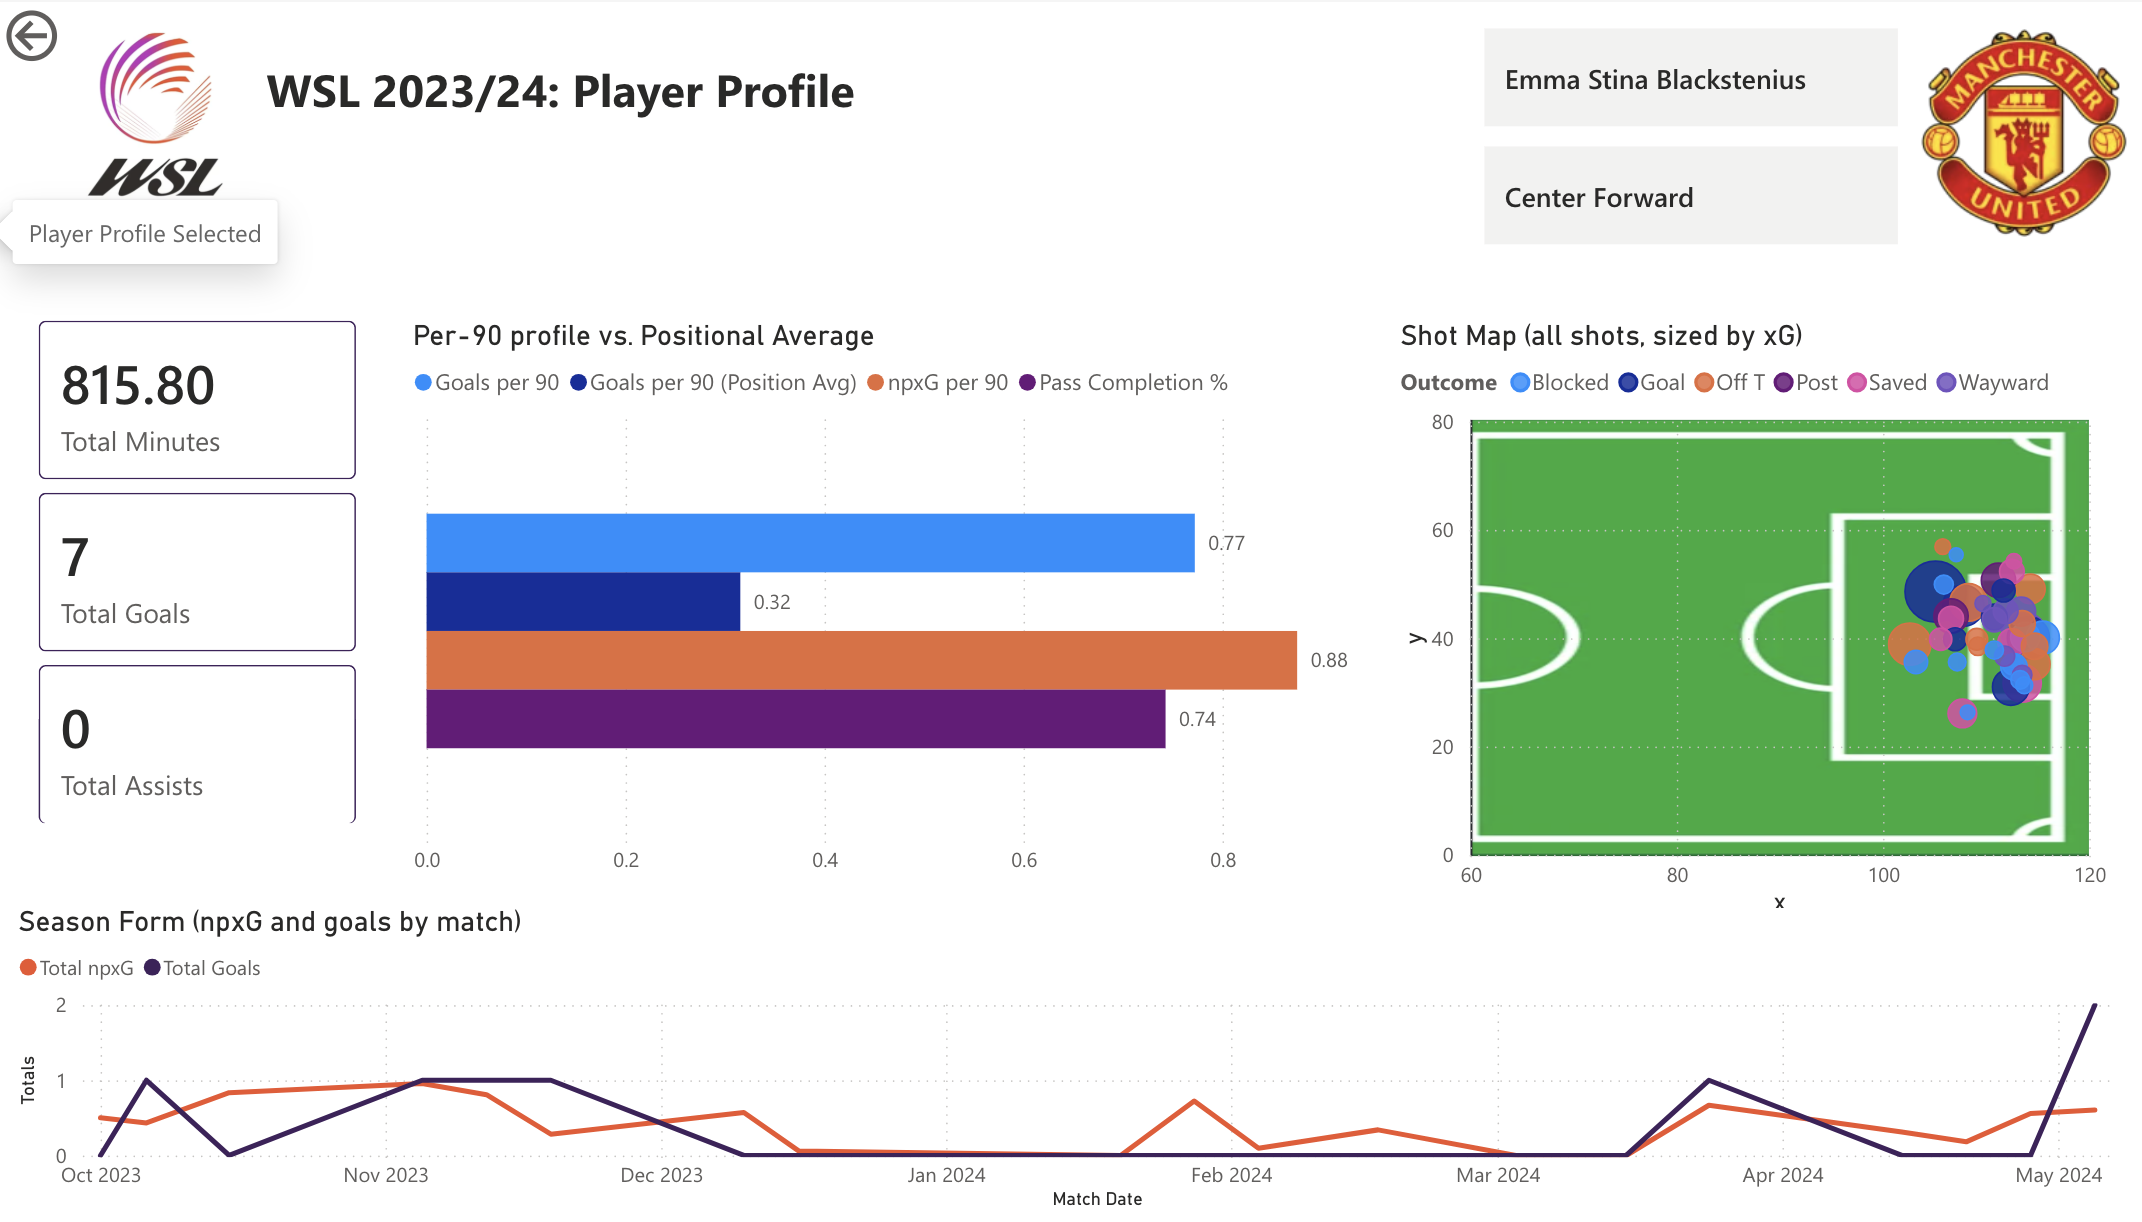

Layout of this report page (visuals, bound fields, positions):
{"tool":"powerbi","page":{"name":"Player Profile","canvas":[1280,720],"ordinal":2},"visuals":[{"type":"image","box":[52,8.8,83.5,125.2],"z":0},{"type":"textbox","box":[153.5,28.8,724.1,60.1],"z":1000},{"type":"actionButton","box":[0,0,100,40],"z":2000},{"type":"cardVisual","fields":{"Rows":["dim_player.player"]},"box":[876.2,11,255.4,258.4],"z":3000},{"type":"cardVisual","fields":{"Rows":["dim_player.position"]},"box":[876.2,80.1,255.4,258.4],"z":4000},{"type":"image","box":[1133.4,15.7,135.2,124.7],"z":5000},{"type":"cardVisual","fields":{"Data":["metrics.Total Minutes","metrics.Total Goals","metrics.Total Assists"]},"box":[7.5,171.3,222.3,333.5],"z":6000},{"type":"clusteredBarChart","title":"Per-90 profile vs. Positional Average","fields":{"Y":["metrics.Goals per 90","metrics.Goals per 90 (Position Avg)","metrics.npxG per 90","metrics.Pass Completion %"]},"box":[243.4,189.3,570.9,332],"z":7000},{"type":"scatterChart","title":"Shot Map (all shots, sized by xG)","fields":{"Series":["fact_shots.outcome"],"Size":["Sum(fact_shots.xg)"],"X":["fact_shots.x"],"Y":["fact_shots.y"]},"box":[826.3,189.6,428.2,356.1],"z":8000},{"type":"lineChart","title":"Season Form (npxG and goals by match)","fields":{"Category":["dim_date.date"],"Y":["metrics.Total npxG","metrics.Total Goals"]},"box":[7.5,536.3,1266.5,183.3],"z":9000}]}

Visuals, with their boxes in screenshot pixels (x1, y1, x2, y2), scaled from the page's 1280x720 canvas onto the 2142x1222 screenshot:
image: [x1=87, y1=15, x2=227, y2=227]
textbox: [x1=257, y1=49, x2=1469, y2=151]
actionButton: [x1=0, y1=0, x2=167, y2=68]
cardVisual - dim_player.player: [x1=1466, y1=19, x2=1894, y2=457]
cardVisual - dim_player.position: [x1=1466, y1=136, x2=1894, y2=575]
image: [x1=1897, y1=27, x2=2123, y2=238]
cardVisual - metrics.Total Minutes x metrics.Total Goals: [x1=13, y1=291, x2=385, y2=857]
"Per-90 profile vs. Positional Average" clusteredBarChart: [x1=407, y1=321, x2=1363, y2=885]
"Shot Map (all shots, sized by xG)" scatterChart: [x1=1383, y1=322, x2=2099, y2=926]
"Season Form (npxG and goals by match)" lineChart: [x1=13, y1=910, x2=2132, y2=1221]
